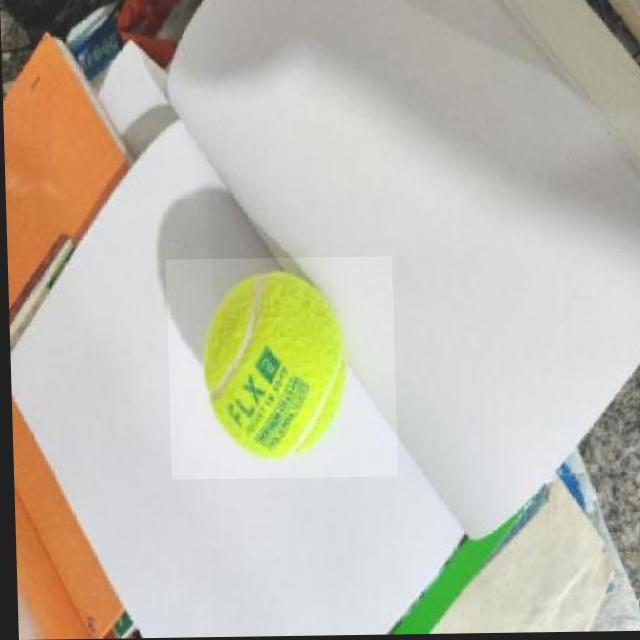-: (164, 258, 395, 480), (180, 280, 378, 449)
